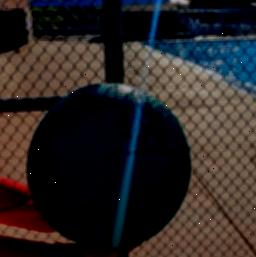algae: (21, 80, 199, 250)
